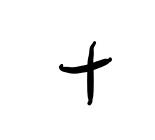plus: (59, 40, 112, 106)
